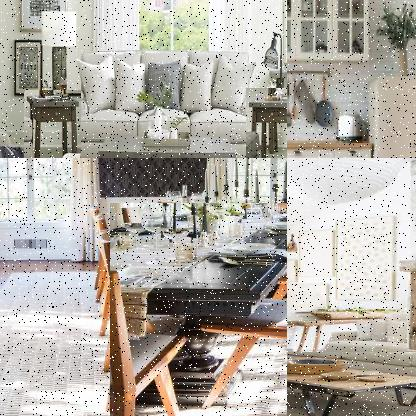table: (110, 203, 286, 415), (287, 352, 415, 415), (287, 309, 408, 368), (24, 89, 83, 157), (94, 132, 239, 157), (246, 87, 286, 157)
